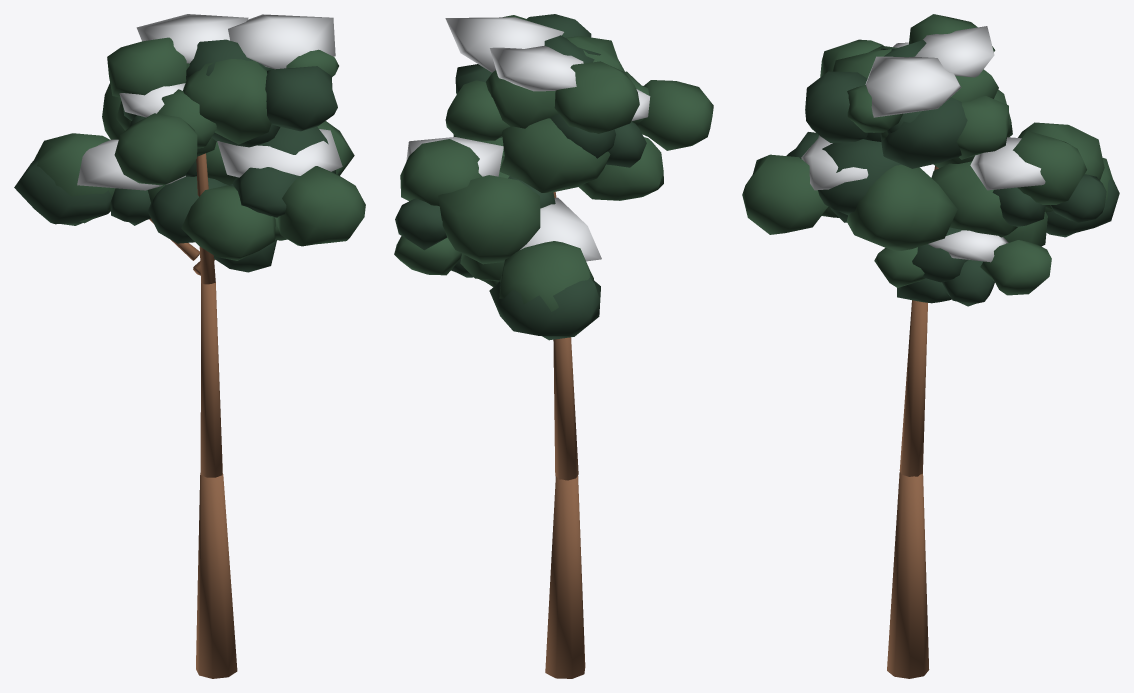
Rendered from node_tree_pine_snow_0.glb.
3 views of the same model, side by side, from view 1: azimuth 30°, elevation 25°; view 2: azimuth 150°, elevation 25°; view 3: azimuth 270°, elevation 25° (orthographic).
Visible parts, largest first — view 1: cyl, blob.030, blob.012, blob.016, blob.026, blob.047, blob.033, cyl.001, blob.038, blob.009, blob.044, blob.008 (+15 smaller); view 2: blob.020, cyl, blob.024, blob.038, blob.009, blob.008, blob.026, blob.022, blob.047, blob.048, cyl.001, blob.016 (+13 smaller); view 3: cyl, blob.014, blob.012, blob.047, blob.037, cyl.001, blob.022, blob.018, blob.033, blob.013, blob.004, blob.048 (+18 smaller).
Boxes of the visible parts, x1=… form: cyl: x1=196, y1=473, x2=237, y2=678; blob.030: x1=183, y1=59, x2=271, y2=144; blob.012: x1=277, y1=166, x2=365, y2=246; blob.016: x1=181, y1=185, x2=275, y2=260; blob.026: x1=114, y1=113, x2=197, y2=185; blob.047: x1=228, y1=14, x2=335, y2=69; blob.033: x1=265, y1=66, x2=337, y2=131; cyl.001: x1=200, y1=282, x2=222, y2=477; blob.038: x1=107, y1=37, x2=186, y2=97; blob.009: x1=14, y1=157, x2=112, y2=225; blob.044: x1=217, y1=129, x2=342, y2=177; blob.008: x1=34, y1=133, x2=115, y2=223; blob.020: x1=438, y1=175, x2=540, y2=264; cyl: x1=545, y1=476, x2=585, y2=678; blob.024: x1=499, y1=118, x2=610, y2=192; blob.038: x1=554, y1=61, x2=639, y2=133; blob.009: x1=489, y1=278, x2=600, y2=340; blob.008: x1=499, y1=241, x2=593, y2=311; blob.026: x1=638, y1=80, x2=713, y2=150; blob.022: x1=400, y1=139, x2=482, y2=205; blob.047: x1=445, y1=17, x2=563, y2=72; blob.048: x1=490, y1=45, x2=583, y2=91; cyl.001: x1=553, y1=337, x2=578, y2=480; blob.016: x1=578, y1=137, x2=663, y2=200; cyl: x1=887, y1=472, x2=929, y2=678; blob.014: x1=846, y1=165, x2=957, y2=251; blob.012: x1=742, y1=154, x2=828, y2=234; blob.047: x1=865, y1=56, x2=961, y2=117; blob.037: x1=880, y1=97, x2=967, y2=168; cyl.001: x1=899, y1=300, x2=927, y2=476; blob.022: x1=1013, y1=131, x2=1086, y2=204; blob.018: x1=931, y1=161, x2=1017, y2=237; blob.033: x1=805, y1=71, x2=868, y2=142; blob.013: x1=818, y1=139, x2=901, y2=215; blob.004: x1=980, y1=240, x2=1051, y2=295; blob.048: x1=915, y1=26, x2=994, y2=77.
Bounding box in the file's own units: 4.29 × 10.74 × 5.77.
